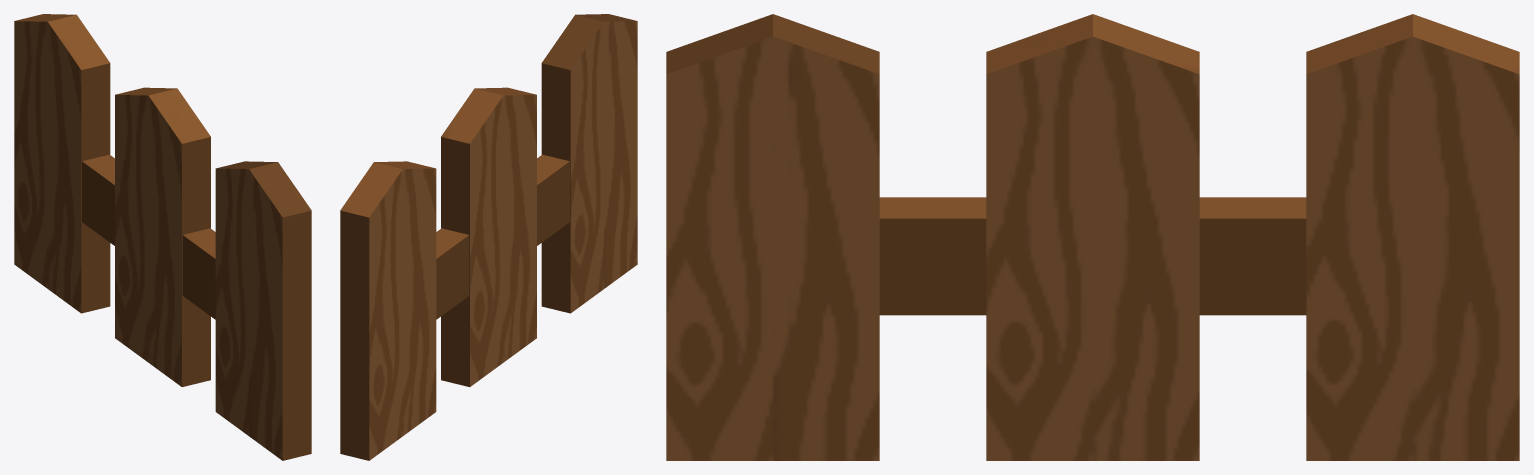
File: fence.fbx
The picture shows the model from 3 angles, left to right: view 1: azimuth 30°, elevation 25°; view 2: azimuth 150°, elevation 25°; view 3: azimuth 270°, elevation 25°; orthographic projection. The views are drawn at different scales.
Parts seen in each view (by area): view 1: Cube; view 2: Cube; view 3: Cube.
Part boxes in pixels (x1,y1,x2,y2): Cube: (14, 14, 311, 460); Cube: (340, 14, 637, 460); Cube: (666, 14, 1519, 460).
Size of the model in its own units: 25 by 220 by 400.
Materials: 1 (1 with a texture image).
